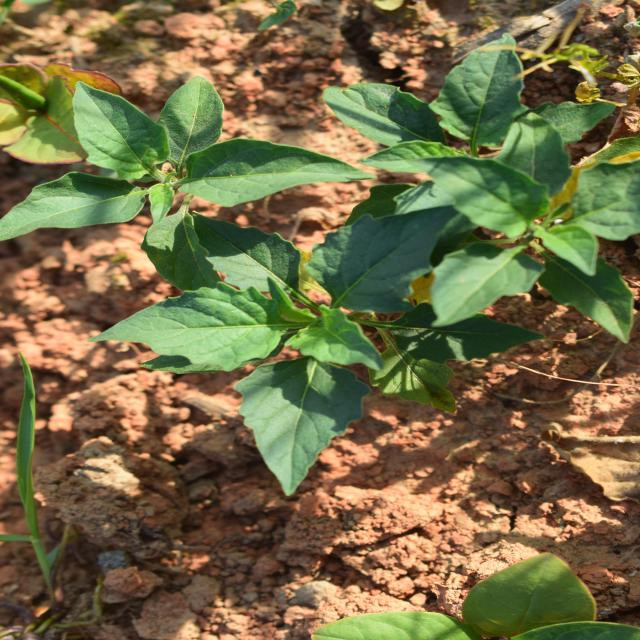Black_nightshade: (168, 131, 417, 464), (323, 354, 587, 614), (388, 39, 542, 343)
